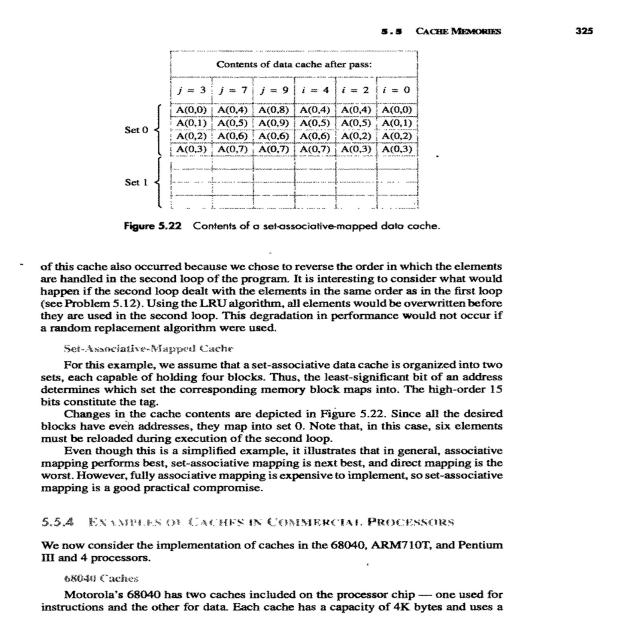diagram: (86, 36, 466, 245)
